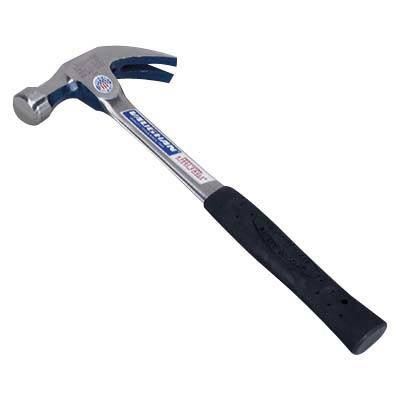hammer: (10, 42, 388, 356)
